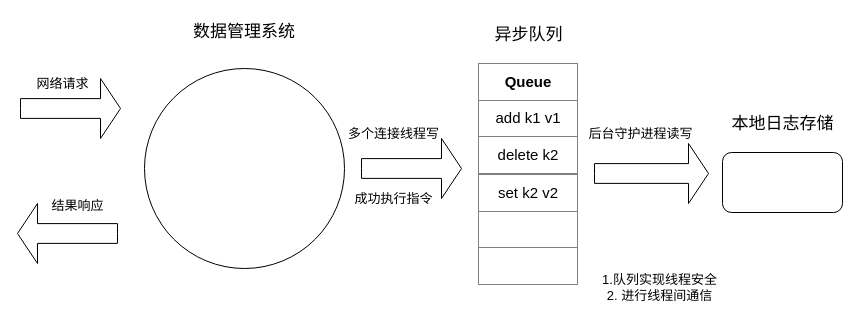
This 860x325 diagram has some shape labels left out. Each missing label, with the centre of its shape:
"log" belongs at (782,182).
"Muduo库 Epoll + 多线程" belongs at (244,168).
